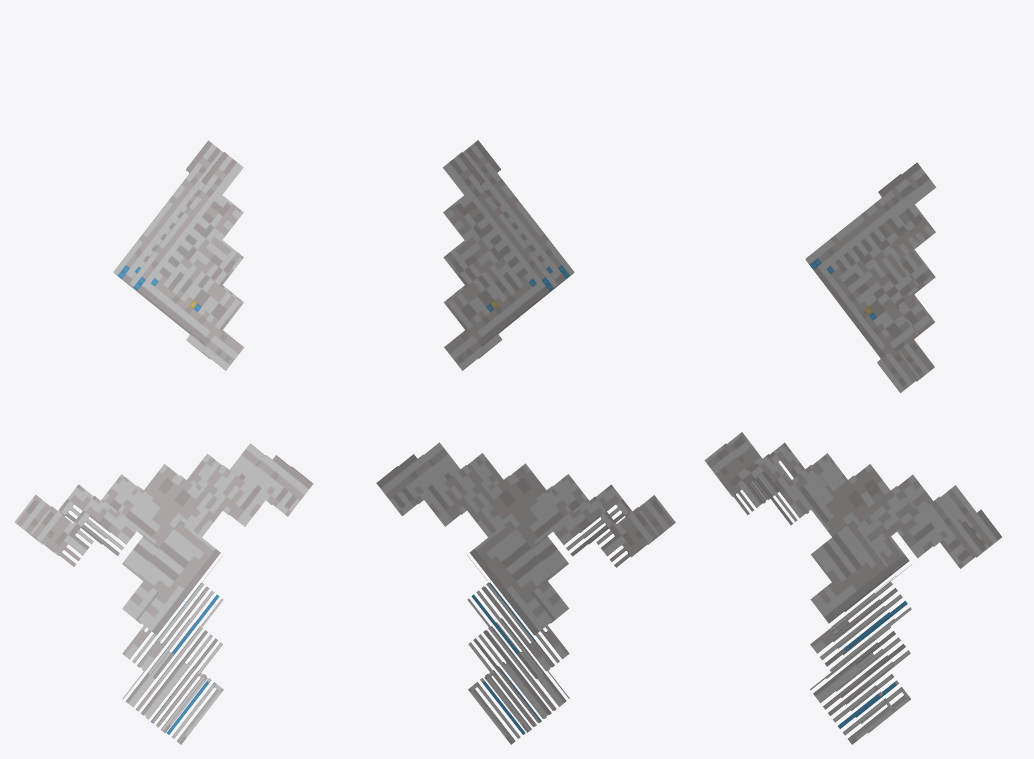
The model's file is Sword.fbx.
3 views of the same model, side by side, from view 1: azimuth 30°, elevation 25°; view 2: azimuth 150°, elevation 25°; view 3: azimuth 330°, elevation 25° (orthographic).
Visible parts, largest first — view 1: Diamon_Sword; view 2: Diamon_Sword; view 3: Diamon_Sword.
Boxes of the visible parts, x1,y1,x2,y2 form: Diamon_Sword: (14, 140, 313, 744); Diamon_Sword: (376, 140, 675, 744); Diamon_Sword: (704, 162, 1001, 744).
Bounding box in the file's own units: 171 × 392 × 19.6.
